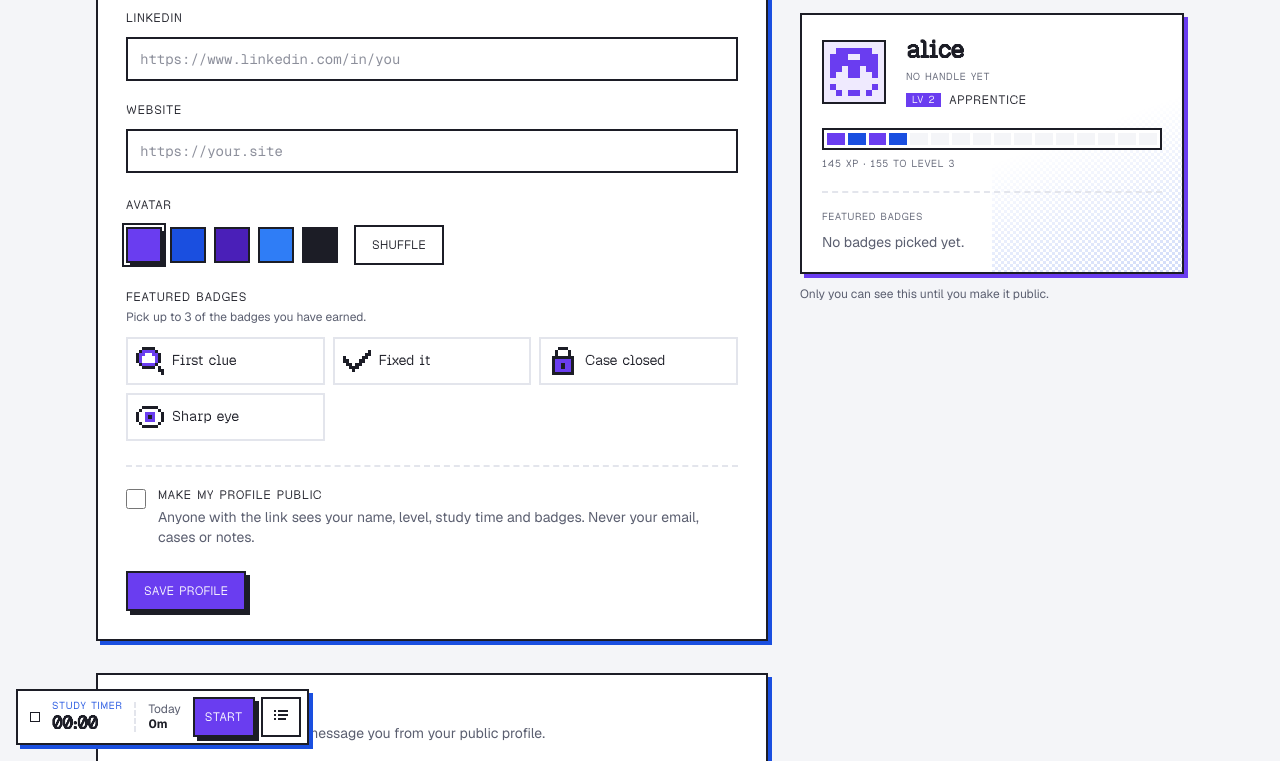
Test: features up to 3 earned badges
(page scrolled)
Click the button "First clue".
click(225, 361)  # box [126,337,325,385]
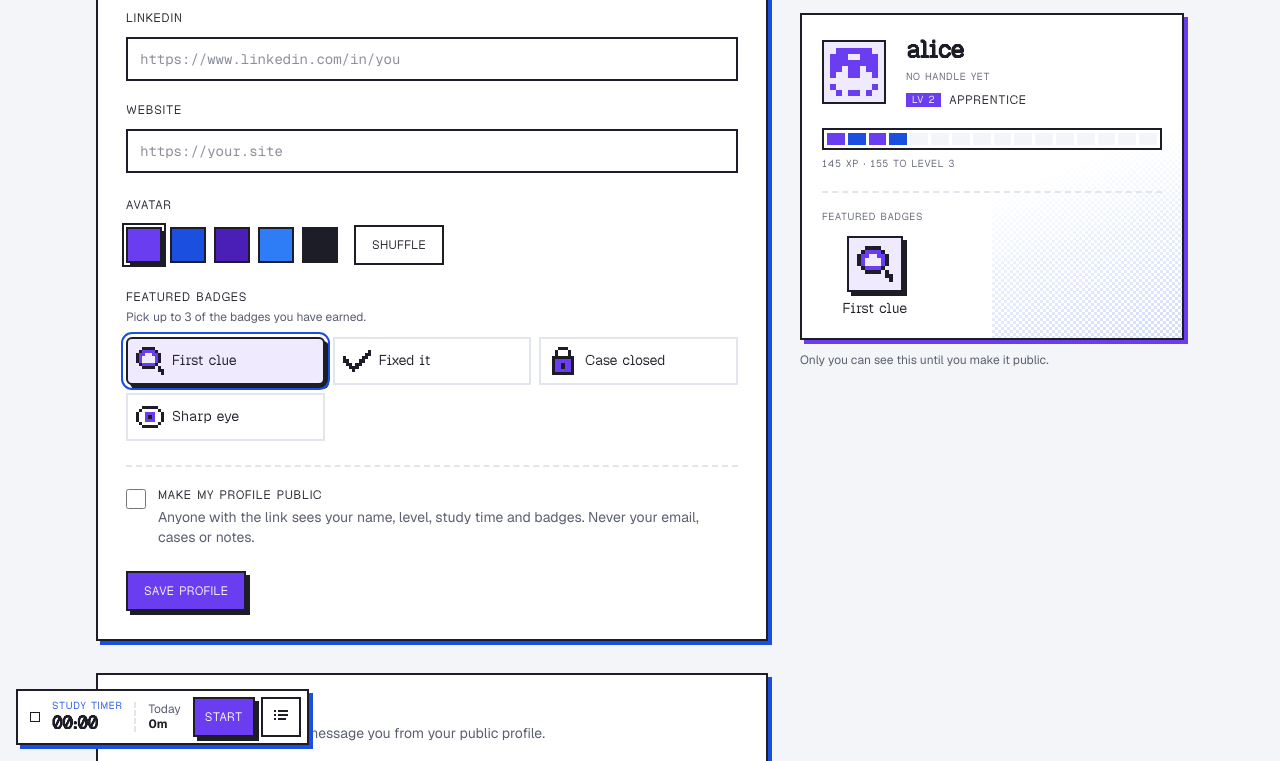
Click the button "Fixed it".
click(432, 361)  # box [333,337,531,385]
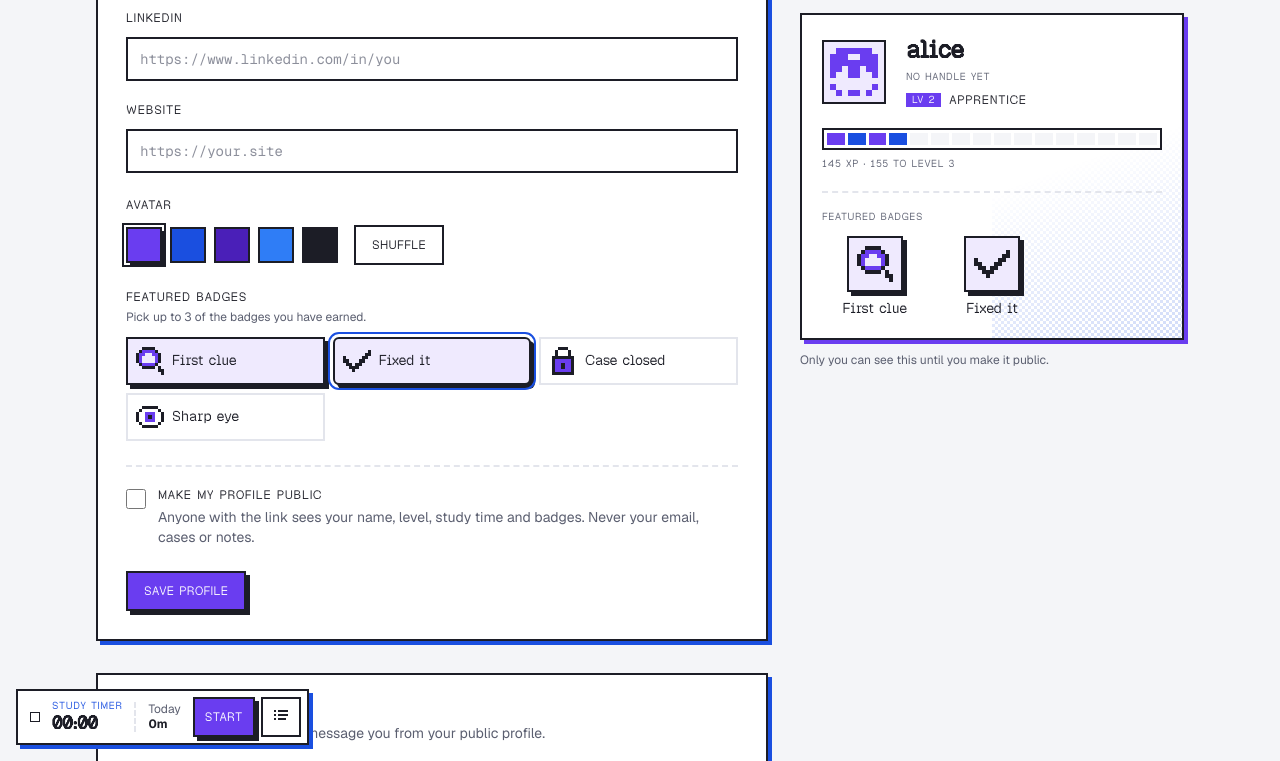
Click the button "Case closed".
click(639, 361)  # box [539,337,738,385]
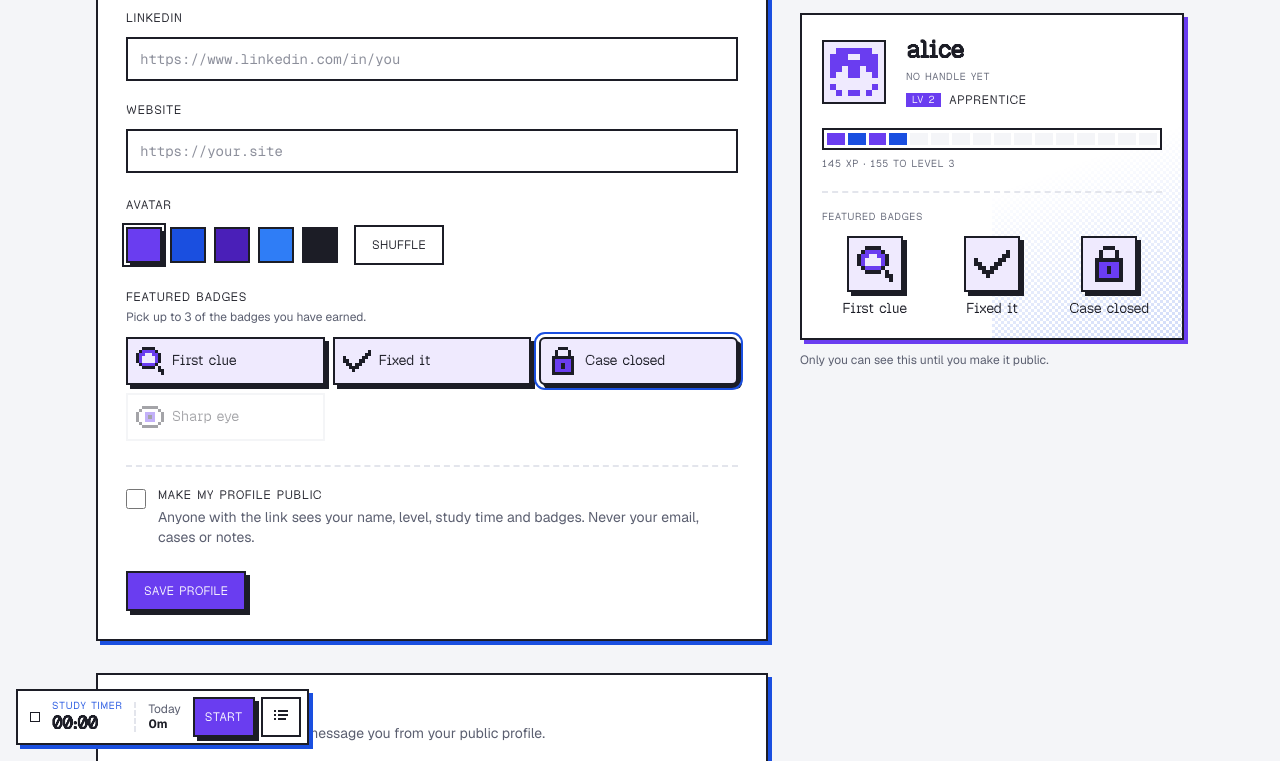
Now the button "Sharp eye" is disabled, box [126,393,325,441]
Click the button "First clue".
click(225, 361)  # box [126,337,325,385]
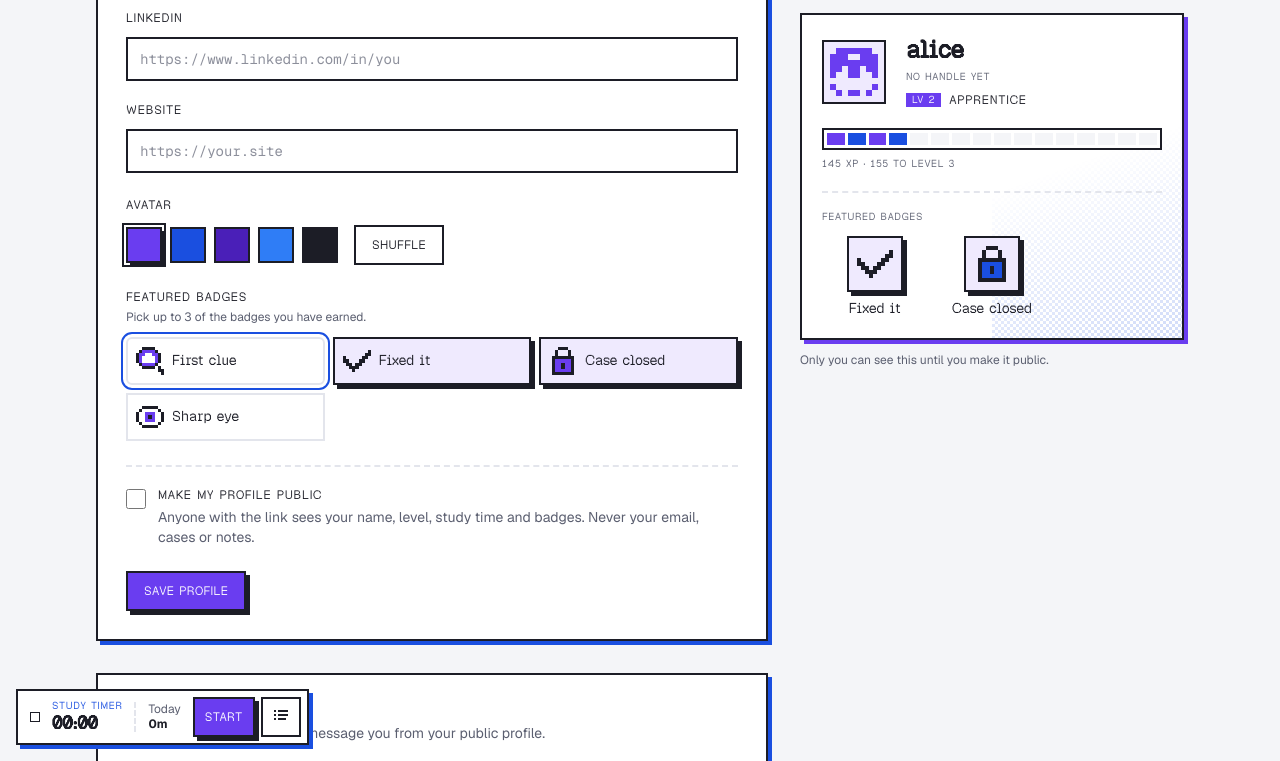
Now the button "Sharp eye" is enabled, box [126,393,325,441]
